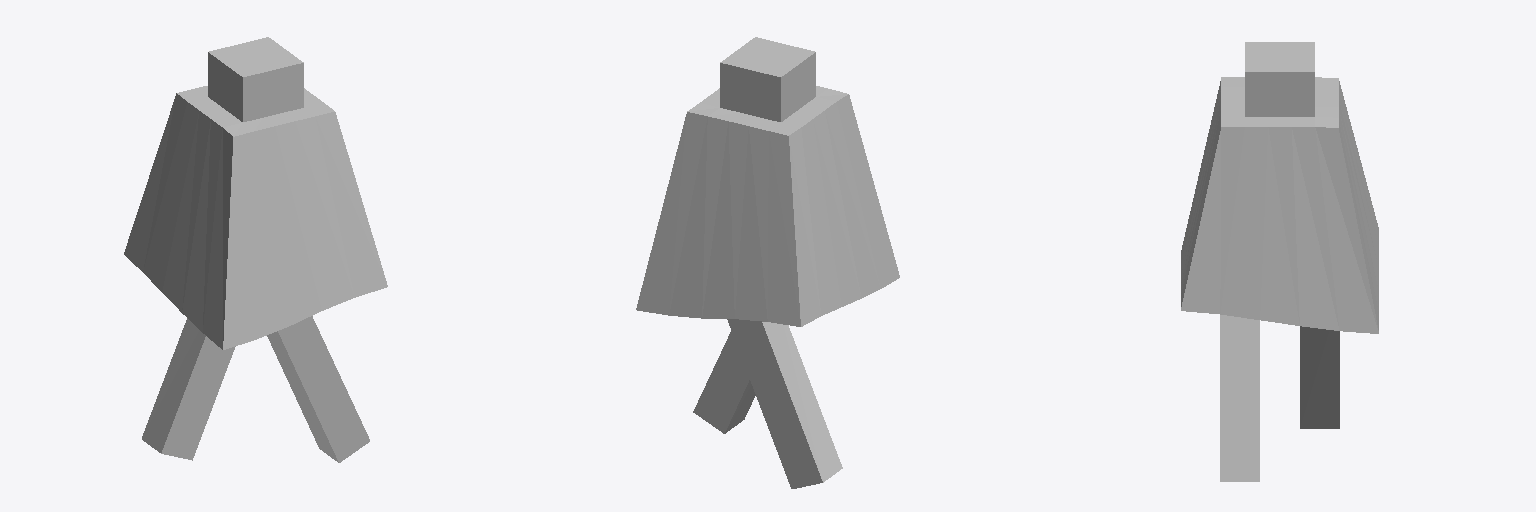
Rendered from essai_000011.obj.
3 renders of one model, left to right at view 1: azimuth 30°, elevation 25°; view 2: azimuth 150°, elevation 25°; view 3: azimuth 270°, elevation 25°, orthographic.
Visible parts, largest first — view 1: Cube; view 2: Cube; view 3: Cube.
Boxes of the visible parts, box(x1,y1,x2,y2) form: Cube: box(124, 37, 387, 462); Cube: box(636, 37, 899, 488); Cube: box(1181, 42, 1378, 481).
Size of the model in its own units: 1.97 by 4.41 by 2.